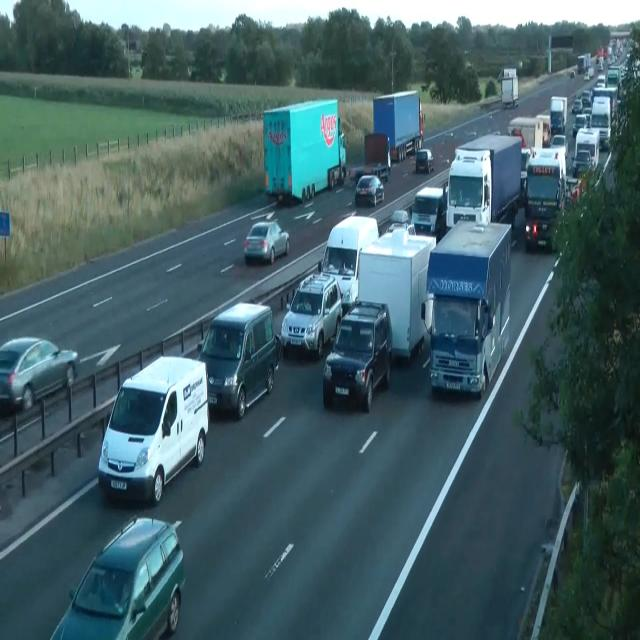bus: (49, 514, 185, 639), (0, 336, 78, 413), (243, 219, 289, 265), (541, 518, 567, 558), (354, 174, 384, 207), (385, 209, 411, 235), (572, 149, 594, 178), (415, 148, 433, 174), (550, 134, 568, 158), (508, 127, 526, 149), (572, 114, 588, 137), (571, 99, 583, 113), (581, 90, 591, 106), (596, 75, 606, 87), (598, 61, 604, 70), (583, 73, 589, 81)
jeep: (97, 354, 209, 505), (196, 300, 280, 420), (322, 298, 392, 412), (280, 271, 342, 358), (410, 186, 446, 236)
minibus: (422, 220, 512, 398), (356, 226, 436, 364), (263, 98, 346, 204), (446, 132, 522, 228), (317, 214, 378, 316), (522, 146, 566, 252), (372, 90, 424, 162), (507, 115, 551, 150), (572, 127, 600, 178), (364, 132, 391, 182), (590, 95, 612, 149), (498, 66, 518, 108), (550, 95, 567, 134), (605, 65, 622, 88), (577, 52, 591, 74)
